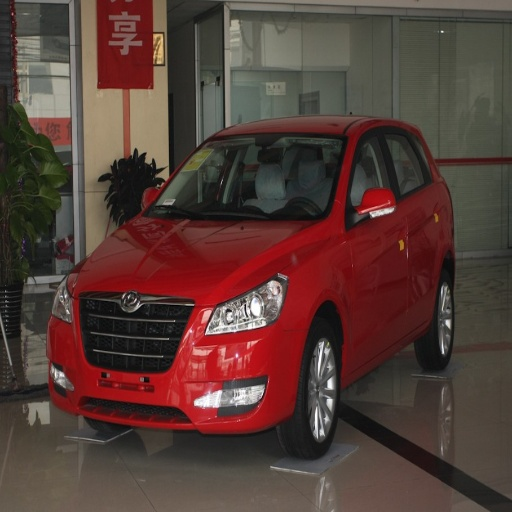front_bumper: (50, 289, 308, 434)
front_glass: (146, 132, 347, 219)
front_left_door: (347, 126, 410, 370)
